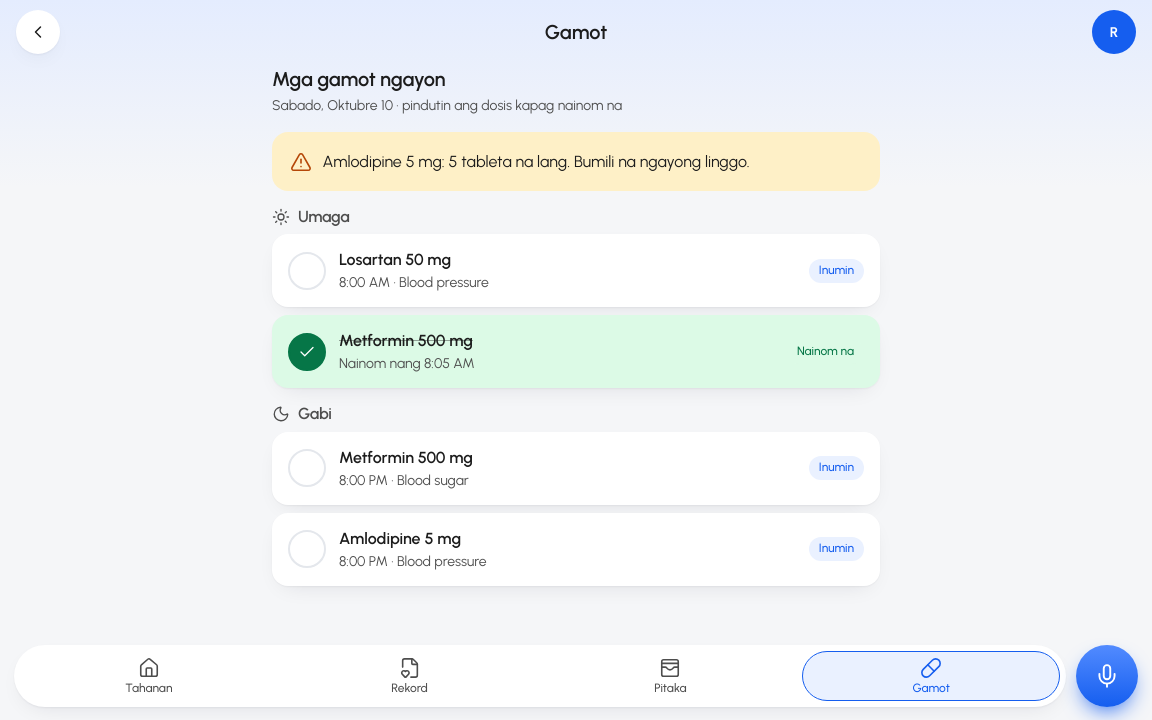
Scenario: MedsPage › on failure the toggle reverts and the error toast shows
This screenshot has width=1152, height=720.
Click the button named "Markahang nainom": (355,282) [272,234,880,307]
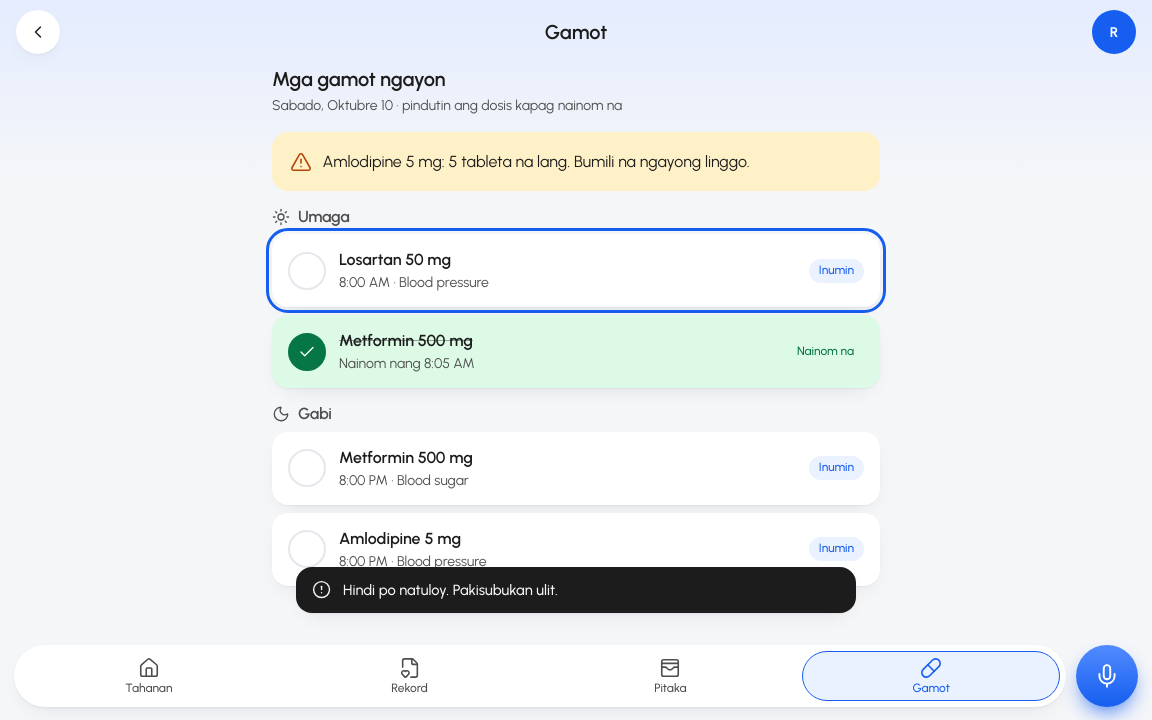
Check: the 1st text with class "dose__chip" reads "Inumin", box [819,263,854,277]
Check: the text "Hindi po natuloy. Pakisubukan ulit." is shown, box [343,581,558,599]
